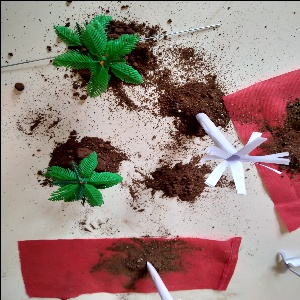plant: (52, 17, 146, 94), (38, 154, 120, 210)
weed: (185, 108, 274, 190), (139, 254, 185, 300), (269, 246, 300, 280)
